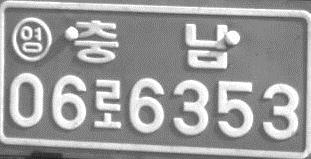0: (8, 71, 44, 129)
3: (261, 82, 299, 140), (172, 78, 208, 138)
5: (216, 80, 255, 138)
6: (50, 72, 87, 131), (128, 76, 163, 135)
로: (93, 78, 122, 129)
영: (10, 16, 51, 63)
충남_D: (73, 18, 229, 71)
